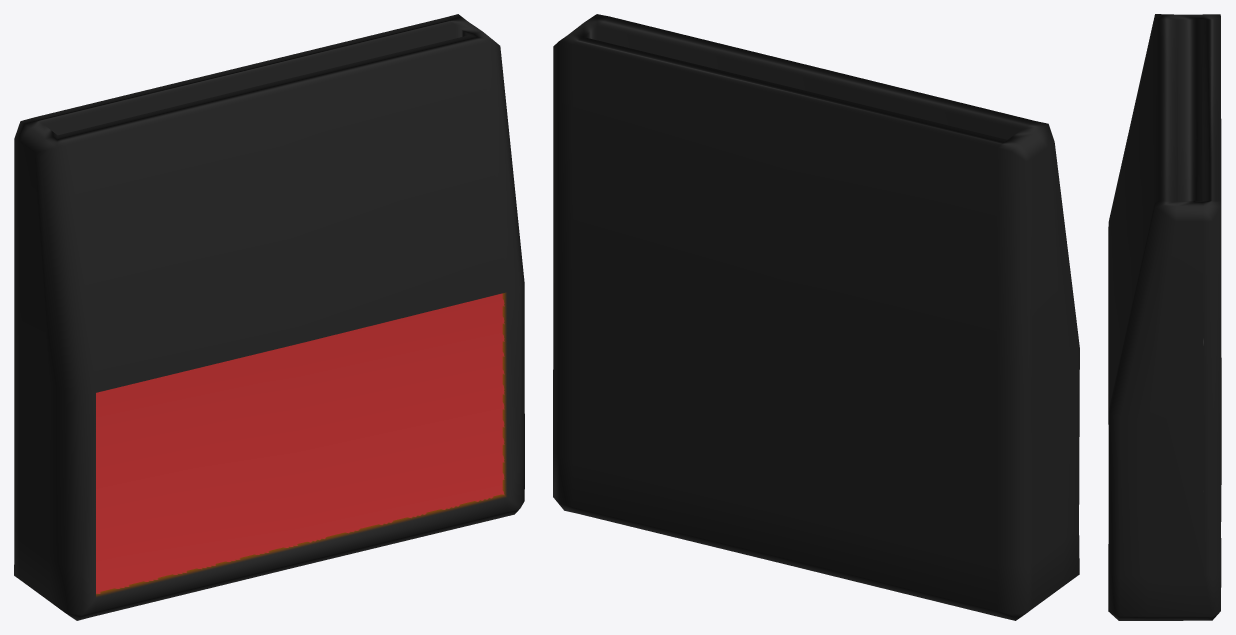
File: CardReadder.fbx
3 views of the same model, side by side, from view 1: azimuth 30°, elevation 25°; view 2: azimuth 150°, elevation 25°; view 3: azimuth 270°, elevation 25° (orthographic). The views are drawn at different scales.
Visible parts, largest first — view 1: PolySphere; view 2: PolySphere; view 3: PolySphere.
Boxes of the visible parts, box(x1,y1,x2,y2) form: PolySphere: box(14, 14, 524, 620); PolySphere: box(553, 14, 1079, 620); PolySphere: box(1108, 14, 1221, 620).
Size of the model in its own units: 0.7808 by 0.7449 by 0.1844.
Materials: 1 (1 with a texture image).
